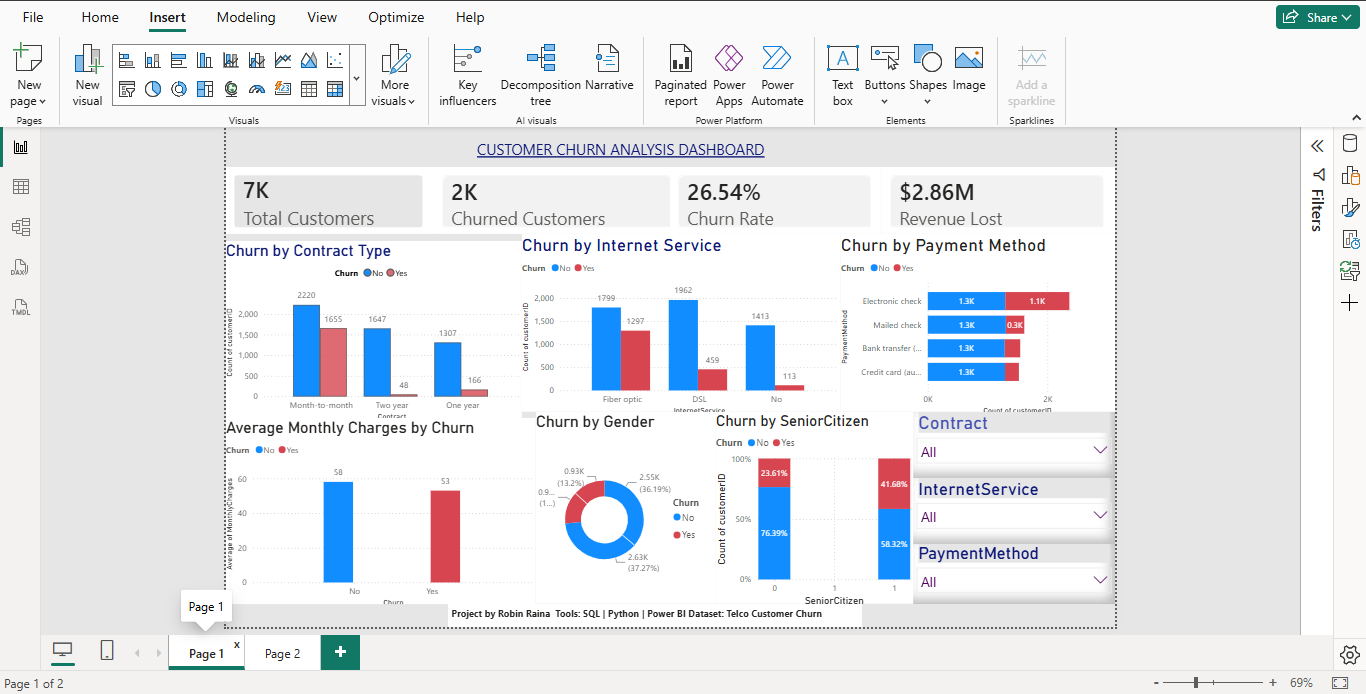

Layout of this report page (visuals, bound fields, positions):
{"tool":"powerbi","page":{"name":"Page 1","canvas":[1280,720],"ordinal":0},"visuals":[{"type":"textbox","box":[351.4,0,433.4,57.6],"z":0},{"type":"cardVisual","fields":{"Data":["Telco-Customer-Churn.Total Customers"]},"box":[0,57.6,299.5,96.5],"z":1000},{"type":"cardVisual","fields":{"Data":["Telco-Customer-Churn.Churned Customers"]},"box":[299.5,57.6,357.1,96.5],"z":2000},{"type":"cardVisual","fields":{"Data":["Telco-Customer-Churn.Churn Rate"]},"box":[639.4,57.6,305.3,96.5],"z":3000},{"type":"cardVisual","fields":{"Data":["Telco-Customer-Churn.Revenue Lost"]},"box":[944.6,57.6,335.5,96.5],"z":4000},{"type":"clusteredColumnChart","title":"Churn by Contract Type","fields":{"Category":["Telco-Customer-Churn.Contract"],"Series":["Telco-Customer-Churn.Churn"],"Y":["CountNonNull(Telco-Customer-Churn.customerID)"]},"box":[0,164.2,426.2,254.9],"z":5000},{"type":"clusteredColumnChart","title":"Churn by Internet Service","fields":{"Category":["Telco-Customer-Churn.InternetService"],"Series":["Telco-Customer-Churn.Churn"],"Y":["CountNonNull(Telco-Customer-Churn.customerID)"]},"box":[426.2,154.1,459.4,256.3],"z":6000},{"type":"barChart","title":"Churn by Payment Method","fields":{"Category":["Telco-Customer-Churn.PaymentMethod"],"Series":["Telco-Customer-Churn.Churn"],"Y":["CountNonNull(Telco-Customer-Churn.customerID)"]},"box":[885.6,154.1,394.6,256.3],"z":7000},{"type":"clusteredColumnChart","title":"Average Monthly Charges by Churn","fields":{"Series":["Telco-Customer-Churn.Churn"],"Category":["Telco-Customer-Churn.Churn"],"Y":["Avg(Telco-Customer-Churn.MonthlyCharges)"]},"box":[0,419,446.4,267.8],"z":8000},{"type":"slicer","fields":{"Values":["Telco-Customer-Churn.Contract"]},"box":[989.3,410.4,290.9,95],"z":9000},{"type":"slicer","fields":{"Values":["Telco-Customer-Churn.InternetService"]},"box":[989.3,505.4,290.9,95],"z":10000},{"type":"slicer","fields":{"Values":["Telco-Customer-Churn.PaymentMethod"]},"box":[989.3,600.5,290.9,86.4],"z":11000},{"type":"donutChart","title":"Churn by Gender","fields":{"Y":["CountNonNull(Telco-Customer-Churn.customerID)"],"Category":["Telco-Customer-Churn.Churn"],"Series":["Telco-Customer-Churn.gender"]},"box":[446.4,410.4,259.2,276.5],"z":12000},{"type":"hundredPercentStackedColumnChart","title":"Churn by SeniorCitizen","fields":{"Category":["Telco-Customer-Churn.SeniorCitizen"],"Series":["Telco-Customer-Churn.Churn"],"Y":["CountNonNull(Telco-Customer-Churn.customerID)"]},"box":[705.6,410.4,283.7,276.5],"z":13000},{"type":"textbox","box":[319.7,686.9,596.2,33.1],"z":13001}]}

Visuals, with their boxes on the page's 1280x720 design canvas (x1, y1, x2, y2). These are canvas units, not pixel positions in the 1366x694 screenshot, which may show the page scaled, cropped or inside an application window:
textbox: [351,0,785,58]
cardVisual - Telco-Customer-Churn.Total Customers: [0,58,300,154]
cardVisual - Telco-Customer-Churn.Churned Customers: [300,58,657,154]
cardVisual - Telco-Customer-Churn.Churn Rate: [639,58,945,154]
cardVisual - Telco-Customer-Churn.Revenue Lost: [945,58,1280,154]
"Churn by Contract Type" clusteredColumnChart: [0,164,426,419]
"Churn by Internet Service" clusteredColumnChart: [426,154,886,410]
"Churn by Payment Method" barChart: [886,154,1280,410]
"Average Monthly Charges by Churn" clusteredColumnChart: [0,419,446,687]
slicer - Telco-Customer-Churn.Contract: [989,410,1280,505]
slicer - Telco-Customer-Churn.InternetService: [989,505,1280,600]
slicer - Telco-Customer-Churn.PaymentMethod: [989,600,1280,687]
"Churn by Gender" donutChart: [446,410,706,687]
"Churn by SeniorCitizen" hundredPercentStackedColumnChart: [706,410,989,687]
textbox: [320,687,916,720]
